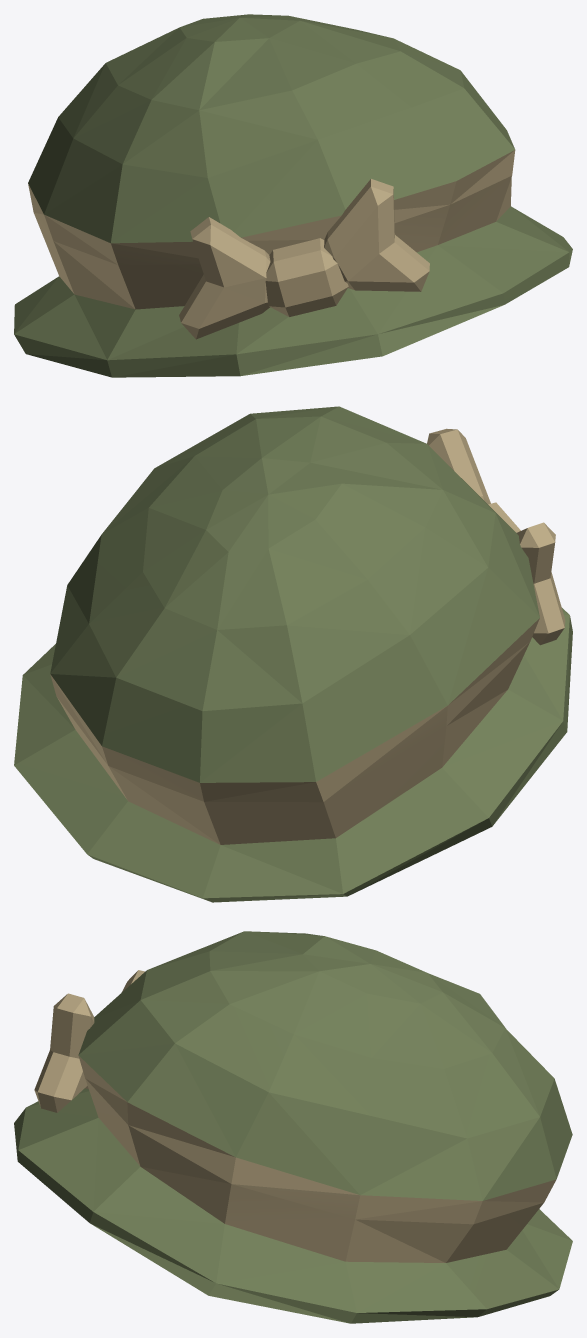
Rendered from helmScholarF.fbx.
3 renders of one model, top to bottom at view 1: azimuth 30°, elevation 25°; view 2: azimuth 150°, elevation 25°; view 3: azimuth 270°, elevation 25°, orthographic. The views are drawn at different scales.
Visible parts, largest first — view 1: helmScholarF; view 2: helmScholarF; view 3: helmScholarF.
Part boxes in pixels (box(x1,y1,x2,y2)): helmScholarF: box(14, 14, 572, 377); helmScholarF: box(14, 406, 572, 902); helmScholarF: box(14, 931, 572, 1323).
Size of the model in its own units: 0.6671 by 0.4464 by 0.7186.
